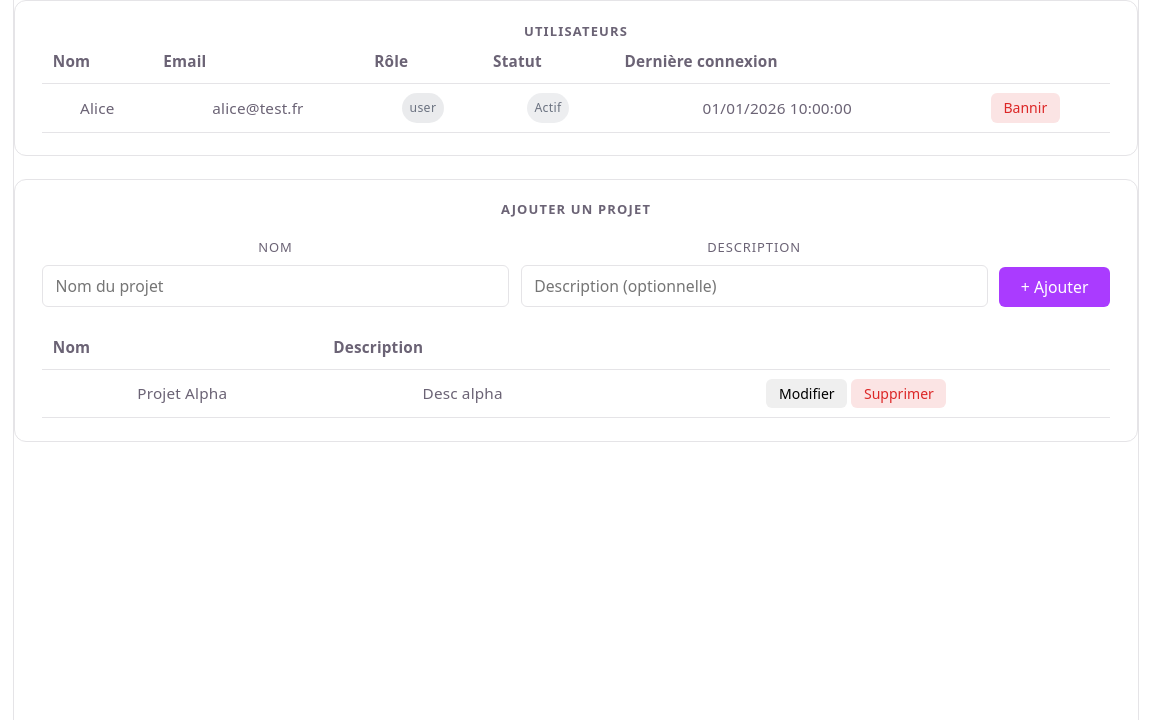
Test case: Moderation › affiche une erreur si le nom du projet est vide à la création
Expected: the text "alice@test.fr" is shown, x1=152 y1=83 x2=364 y2=132
Click the button "+ Ajouter" at (1055, 286), box x1=999 y1=266 x2=1110 y2=306
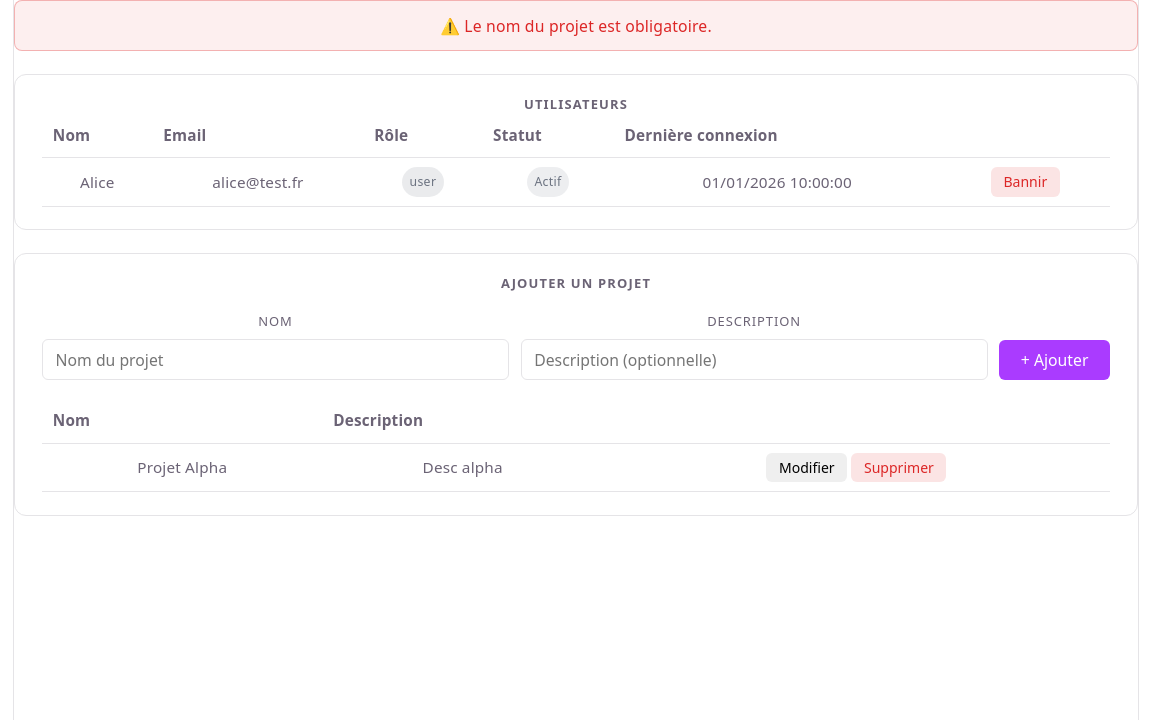
Now the text "⚠️ Le nom du projet est obligatoire." is shown, box x1=14 y1=0 x2=1138 y2=52
